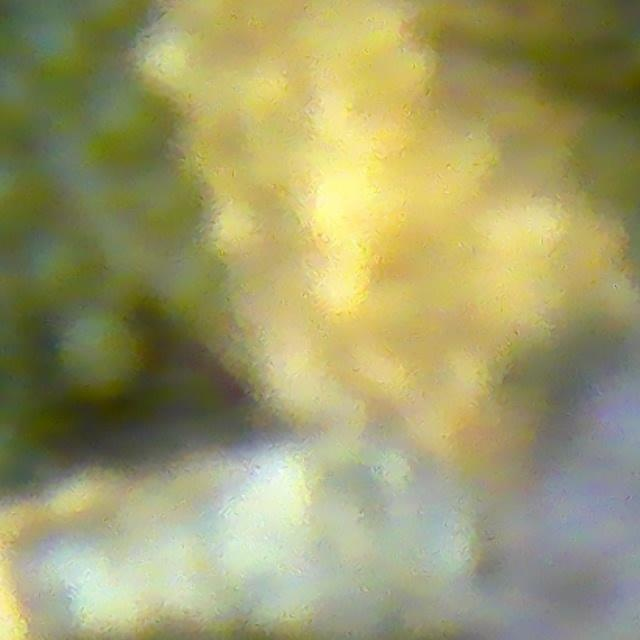SeaGrape: (49, 300, 150, 403), (501, 485, 591, 600), (11, 3, 96, 82), (573, 418, 640, 518), (20, 229, 90, 301)
